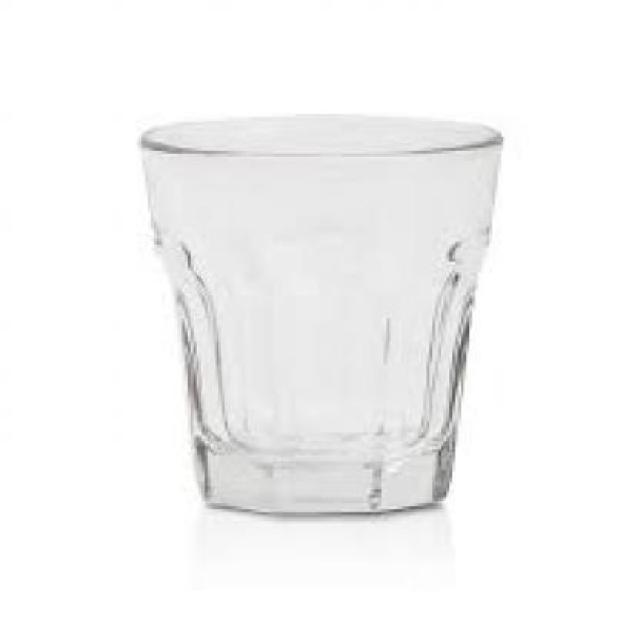kaca: (137, 111, 500, 512)
